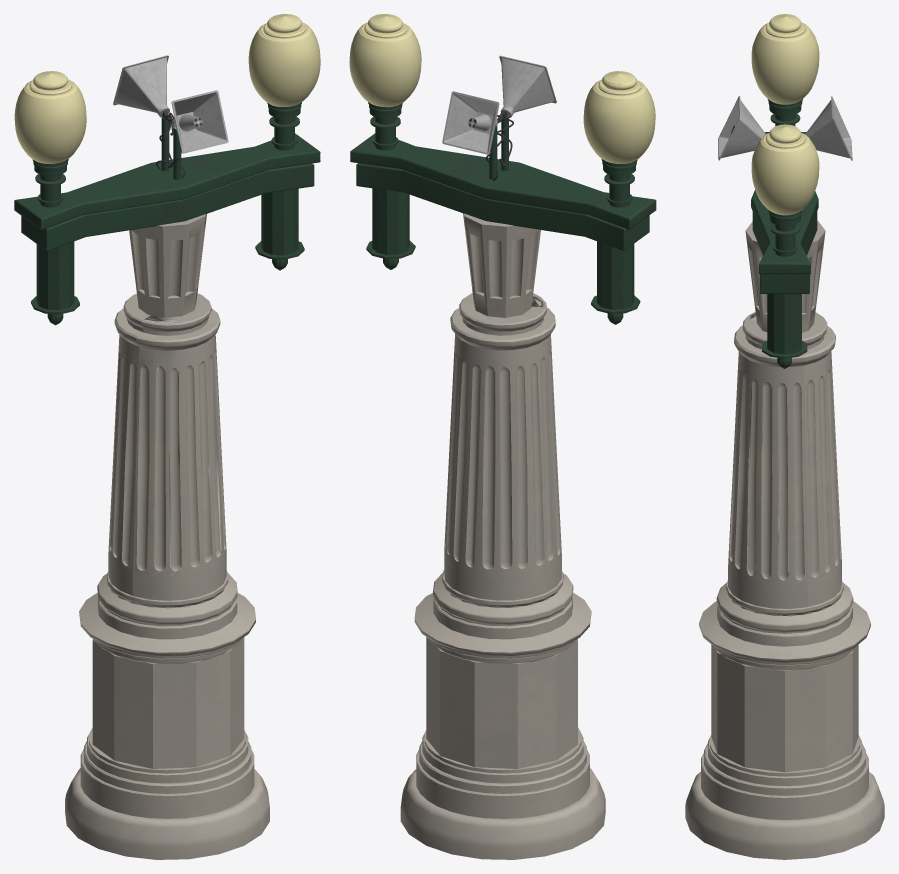
Rendered from LightPoleTxt2.fbx.
3 views of the same model, side by side, from view 1: azimuth 30°, elevation 25°; view 2: azimuth 150°, elevation 25°; view 3: azimuth 270°, elevation 25° (orthographic). The views are drawn at different scales.
Parts seen in each view (by area): view 1: group2_Speaker2; view 2: group2_Speaker2; view 3: group2_Speaker2.
Part boxes in pixels (x1=…): group2_Speaker2: x1=14, y1=14, x2=320, y2=859; group2_Speaker2: x1=349, y1=14, x2=656, y2=859; group2_Speaker2: x1=685, y1=14, x2=884, y2=859.
Bounding box in the file's own units: 6.35 × 15.71 × 3.81.
Materials: 6 (5 with a texture image).
